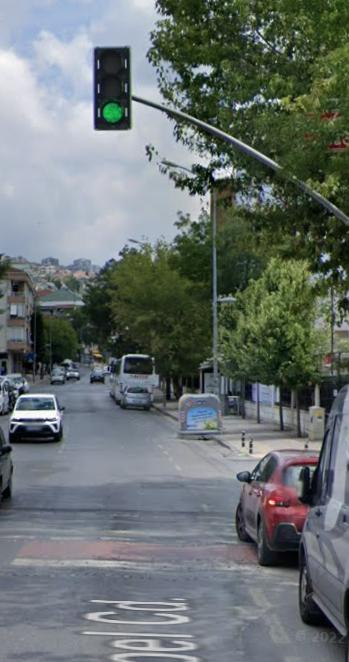greenlight: (94, 46, 131, 131)
